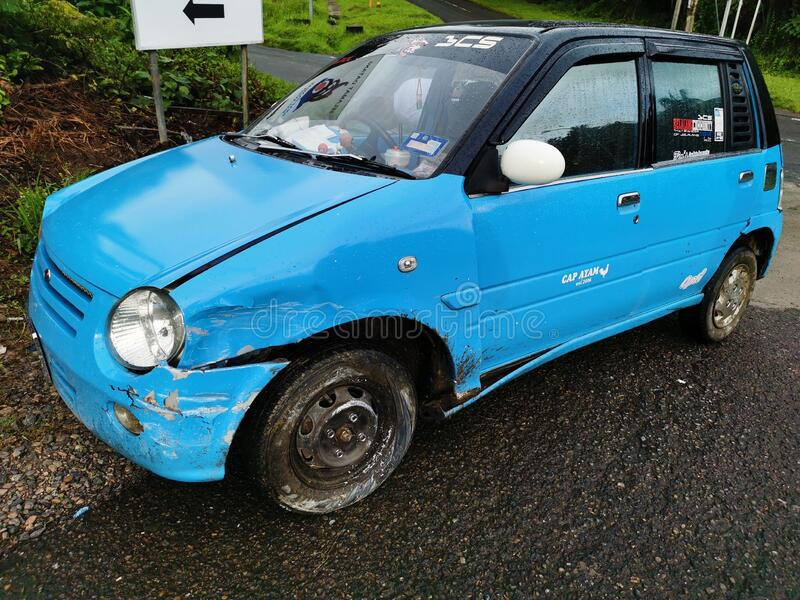fender-dent: (178, 244, 478, 407)
front-bumper-dent: (1, 327, 256, 480)
